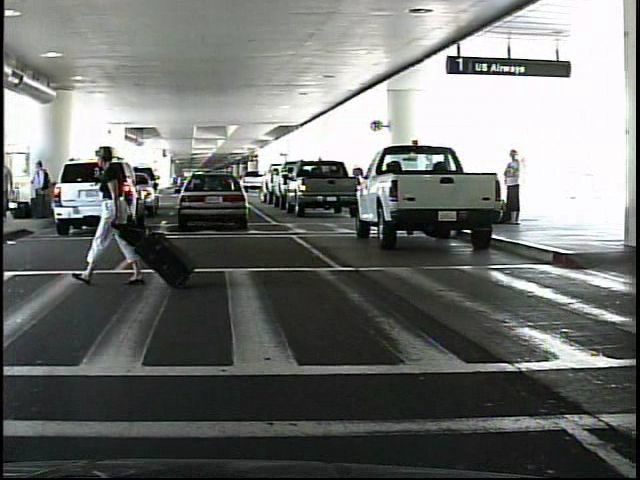person: (87, 144, 156, 290), (492, 151, 530, 226), (31, 158, 51, 221)
